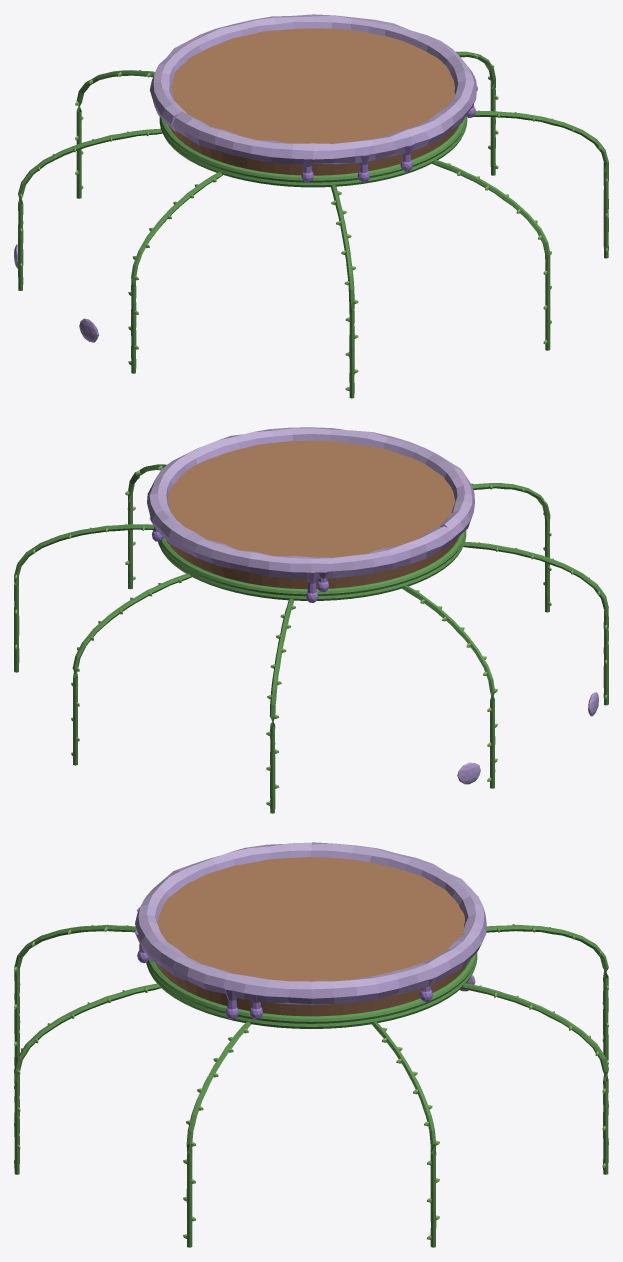
File: goo_jar_trim_1_top@mushroom.fbx
The picture shows the model from 3 angles, top to bottom: view 1: azimuth 30°, elevation 25°; view 2: azimuth 150°, elevation 25°; view 3: azimuth 270°, elevation 25°; orthographic projection. The views are drawn at different scales.
Parts seen in each view (by area): view 1: goo_jar_trim_1_top; view 2: goo_jar_trim_1_top; view 3: goo_jar_trim_1_top.
Boxes of the visible parts, x1,y1,x2,y2 form: goo_jar_trim_1_top: (14,14,608,398); goo_jar_trim_1_top: (14,427,608,813); goo_jar_trim_1_top: (14,842,608,1247).
Size of the model in its own units: 60.29 by 22.69 by 58.23.
